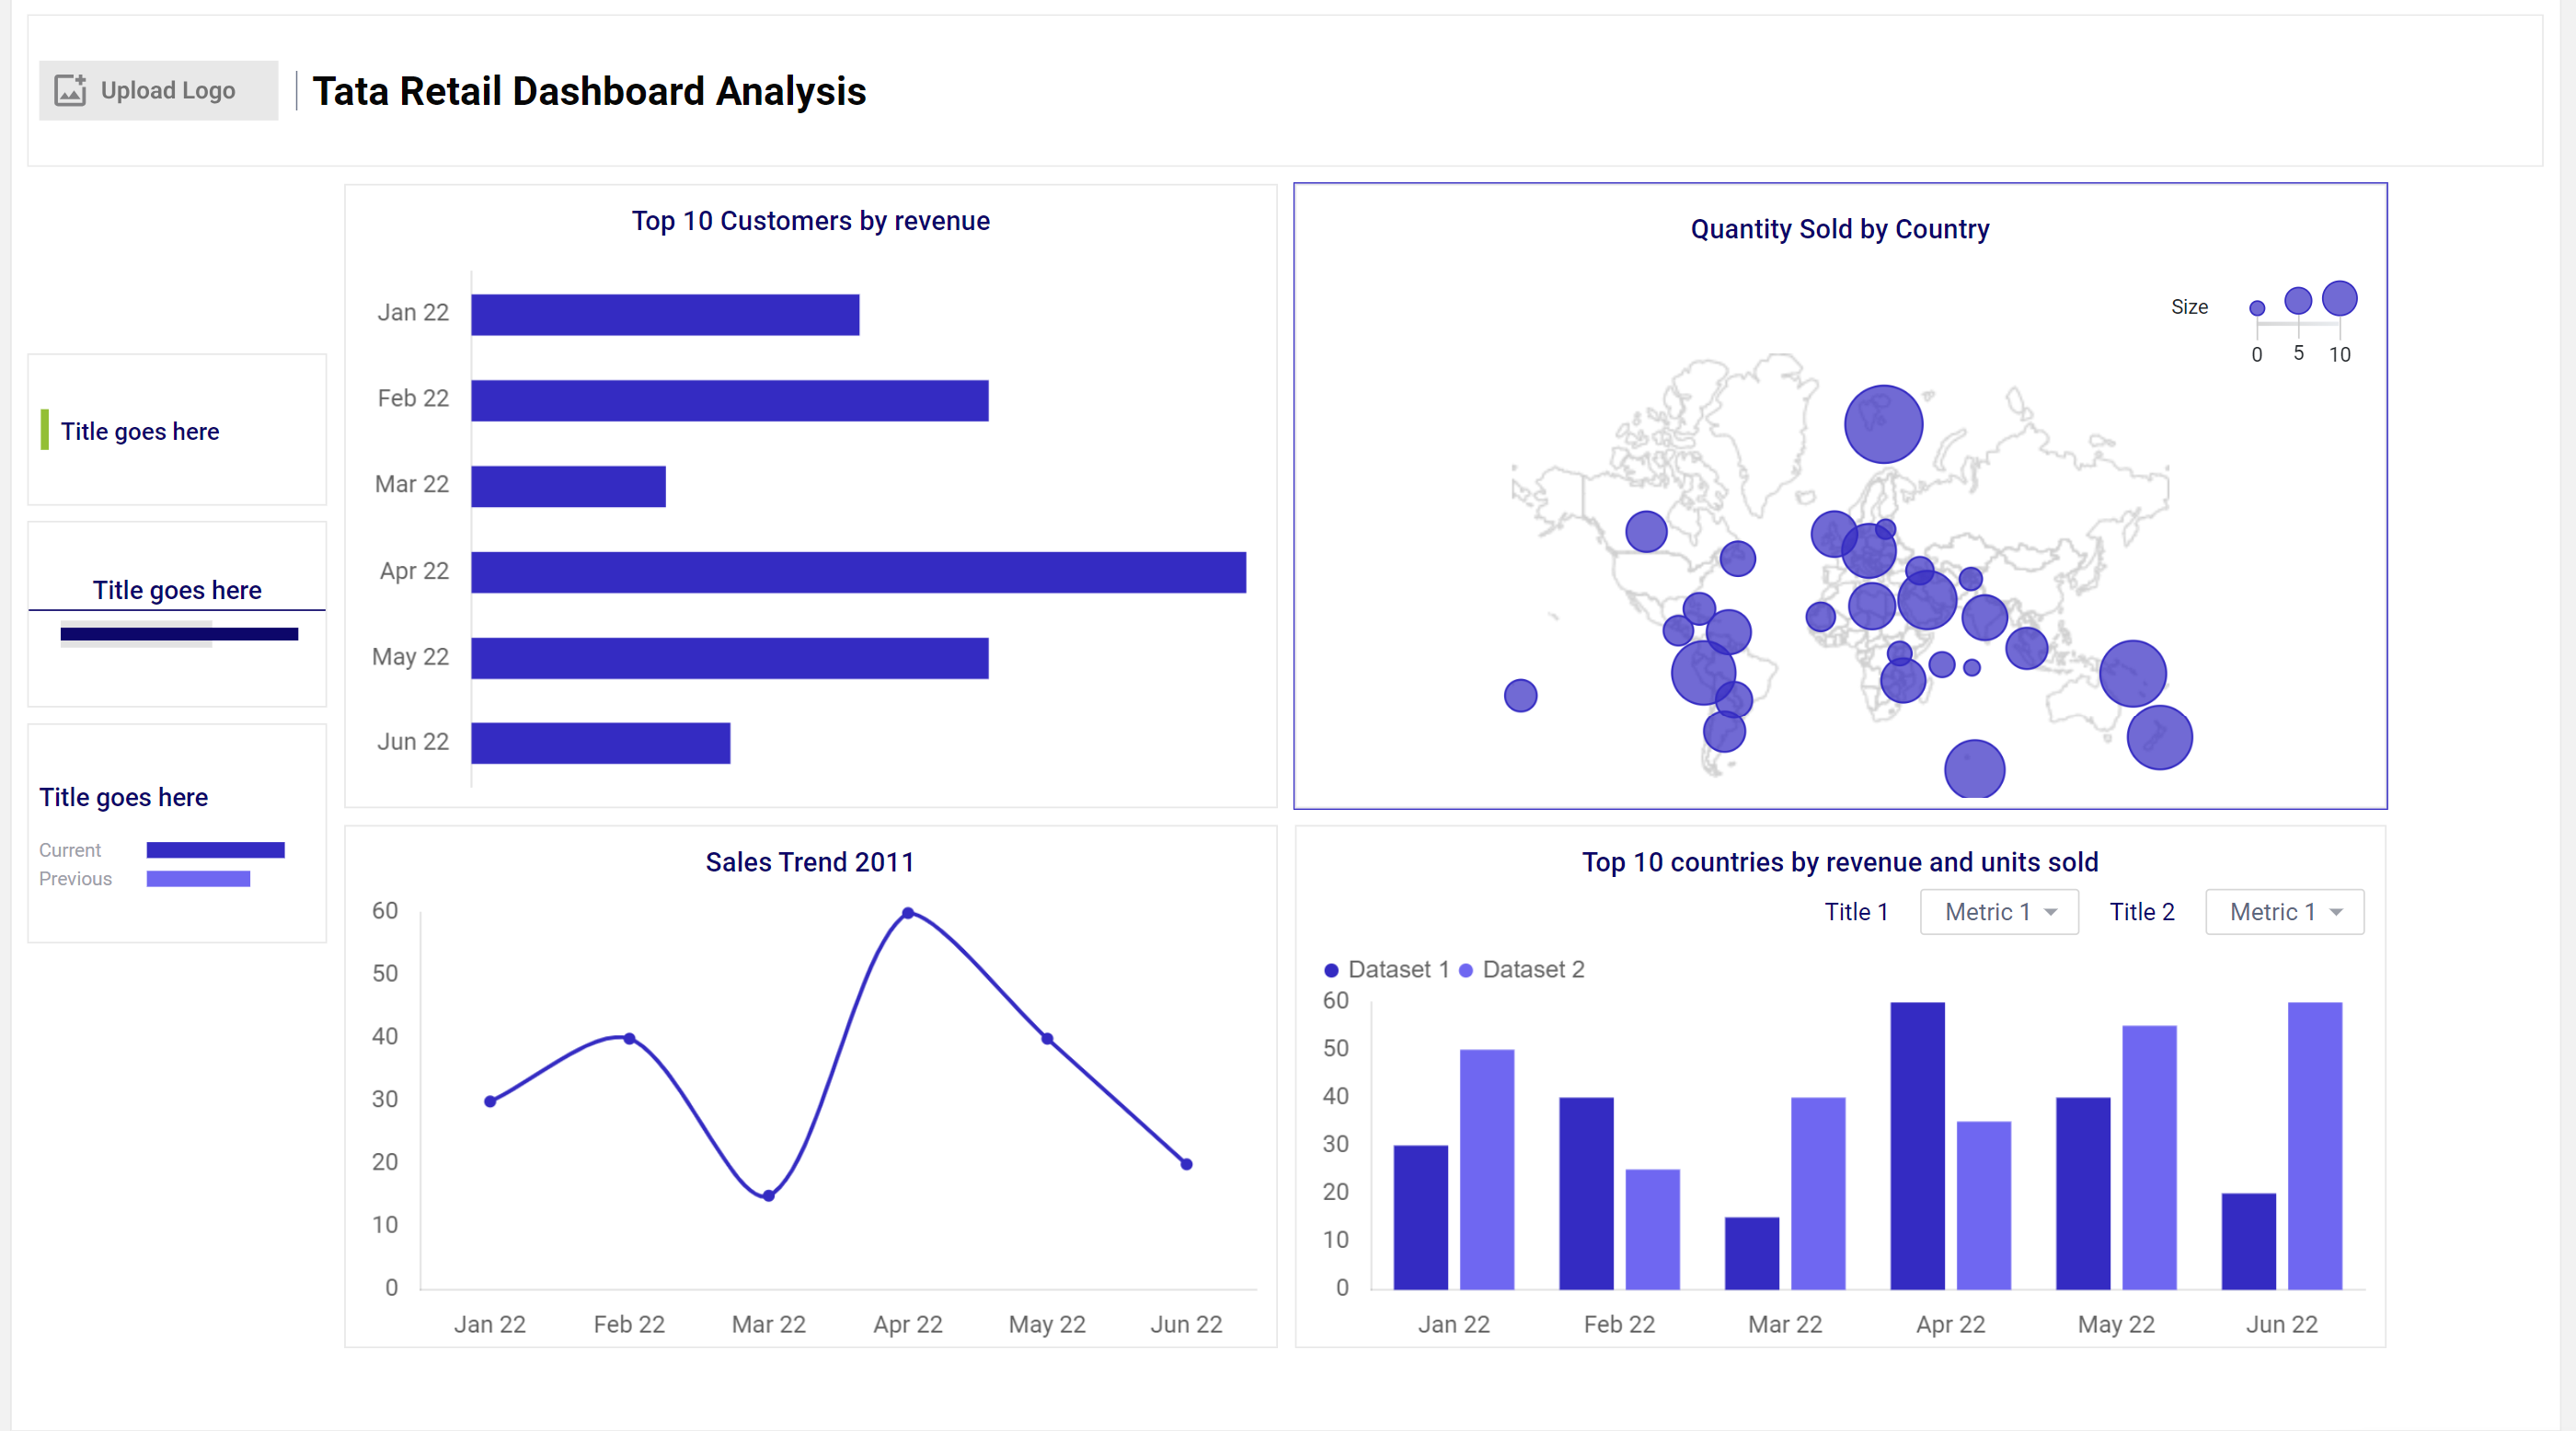

The dashboard page shown, as its layout file describes it:
{"tool":"powerbi","page":{"name":"RetailDashboard","canvas":[1280,720],"ordinal":0},"visuals":[{"type":"shape","box":[0,123.5,1267,596.5],"z":0},{"type":"shape","box":[148.1,268.7,1109.2,298.9],"z":1000},{"type":"lineChart","title":"Sales Trend 2011","fields":{"Y":["Calculations.Revenue"],"Category":["Order_dimension_table.InvoiceDate.Variation.Date Hierarchy.Year","Order_dimension_table.InvoiceDate.Variation.Date Hierarchy.Month"]},"box":[149.4,418.2,593.7,290.7],"z":2000},{"type":"shape","box":[0,134.4,296.1,577.2],"z":3000},{"type":"clusteredColumnChart","title":"Top10 countries by revenue and units sold","fields":{"Category":["Sales.Country"],"Y":["Calculations.Revenue","Calculations.Quantity Sold"]},"box":[743.1,422.3,514.1,286.5],"z":4000},{"type":"clusteredBarChart","title":"Top 10 customers by revenue","fields":{"Category":["Sales.CustomerID"],"Y":["Calculations.Revenue"]},"box":[150.8,134.4,489.5,266],"z":5000},{"type":"map","fields":{"Category":["Sales.Country"],"Size":["Calculations.Quantity Sold"]},"box":[640.3,134.4,617,283.8],"z":6000},{"type":"shape","box":[8.2,277,138.5,90.5],"z":7000},{"type":"shape","box":[9.6,372.9,138.5,90.5],"z":8000},{"type":"shape","box":[9.6,463.4,138.5,90.5],"z":9000},{"type":"card","fields":{"Values":["Calculations.Revenue"]},"box":[24.7,286.5,100.1,69.9],"z":10000},{"type":"card","fields":{"Values":["Calculations.Quantity Sold"]},"box":[31.5,383.9,93.2,69.9],"z":11000},{"type":"card","fields":{"Values":["Calculations.Customers"]},"box":[31.5,471.6,87.7,69.9],"z":12000},{"type":"textbox","box":[100.1,54.8,1114.7,49.4],"z":13000},{"type":"image","box":[100.1,54.8,196.1,49.4],"z":13001}]}

Visuals, with their boxes on the page's 1280x720 design canvas (x1, y1, x2, y2). These are canvas units, not pixel positions in the 2576x1431 screenshot, which may show the page scaled, cropped or inside an application window:
shape: <bbox>0, 124, 1267, 720</bbox>
shape: <bbox>148, 269, 1257, 568</bbox>
"Sales Trend 2011" lineChart: <bbox>149, 418, 743, 709</bbox>
shape: <bbox>0, 134, 296, 712</bbox>
"Top10 countries by revenue and units sold" clusteredColumnChart: <bbox>743, 422, 1257, 709</bbox>
"Top 10 customers by revenue" clusteredBarChart: <bbox>151, 134, 640, 400</bbox>
map - Sales.Country x Calculations.Quantity Sold: <bbox>640, 134, 1257, 418</bbox>
shape: <bbox>8, 277, 147, 368</bbox>
shape: <bbox>10, 373, 148, 463</bbox>
shape: <bbox>10, 463, 148, 554</bbox>
card - Calculations.Revenue: <bbox>25, 286, 125, 356</bbox>
card - Calculations.Quantity Sold: <bbox>32, 384, 125, 454</bbox>
card - Calculations.Customers: <bbox>32, 472, 119, 542</bbox>
textbox: <bbox>100, 55, 1215, 104</bbox>
image: <bbox>100, 55, 296, 104</bbox>
